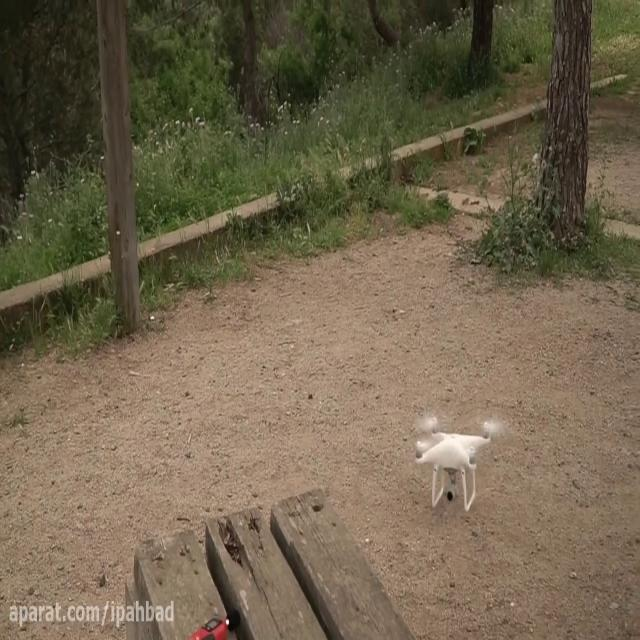drone: (409, 408, 509, 513)
